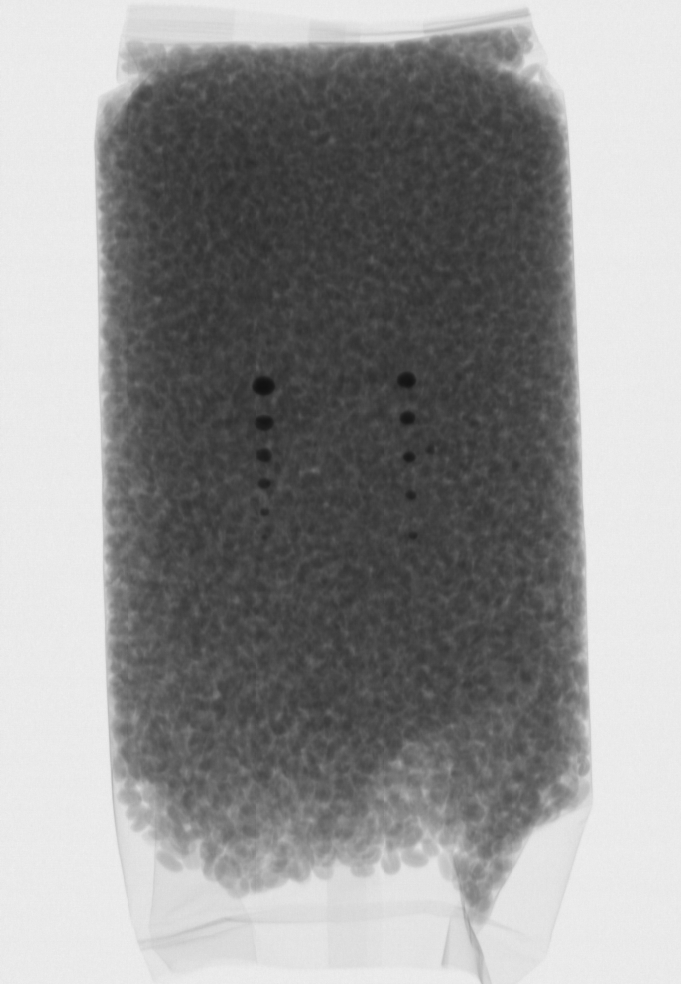glass: (251, 374, 276, 398), (254, 413, 273, 430), (396, 370, 415, 386), (398, 408, 415, 425), (254, 446, 271, 462), (401, 449, 417, 464), (404, 486, 419, 502), (258, 476, 272, 492), (260, 504, 270, 517), (406, 525, 416, 538)
glass_area: (385, 358, 434, 555), (241, 358, 286, 529)
